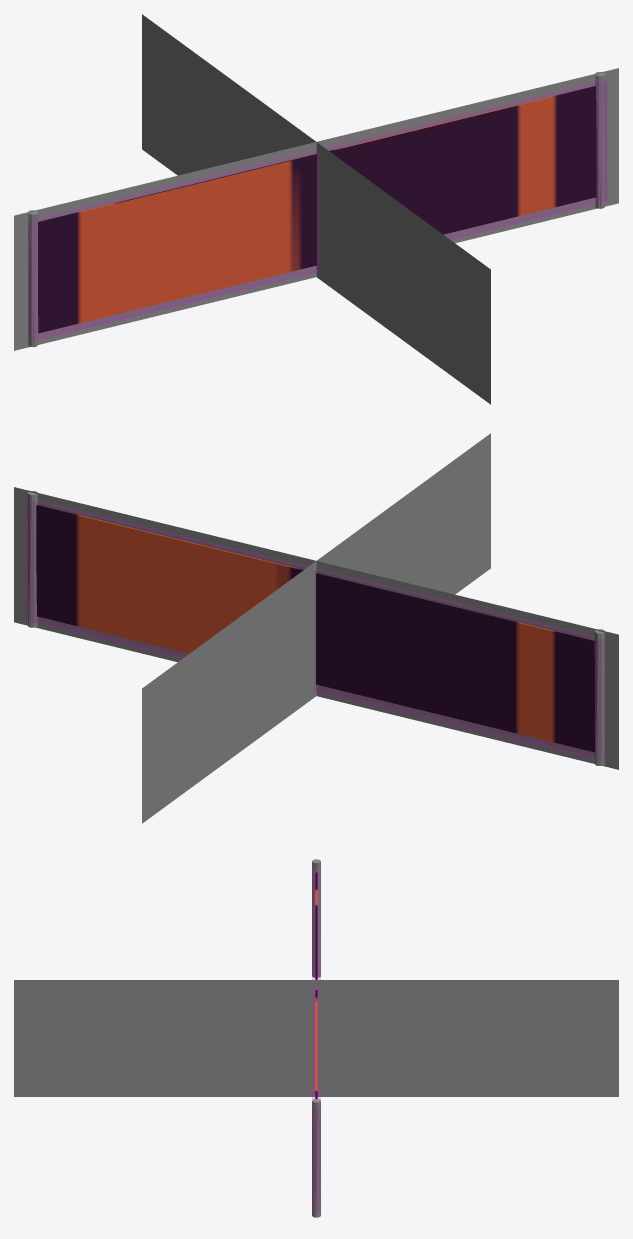
File: ribbon_caution_5m.dae
3 renders of one model, top to bottom at view 1: azimuth 30°, elevation 25°; view 2: azimuth 150°, elevation 25°; view 3: azimuth 270°, elevation 25°, orthographic. The views are drawn at different scales.
Visible parts, largest first — view 1: ribbon_caution_5m_a800, ribbon_caution_5m_a50, Colmesh_panel-1, ribbon_caution_5m_a200; view 2: ribbon_caution_5m_a800, ribbon_caution_5m_a50, Colmesh_panel-1, ribbon_caution_5m_a200; view 3: ribbon_caution_5m_a50, Colmesh_panel-1, ribbon_caution_5m_a800, ribbon_caution_5m_a200.
Boxes of the visible parts, bbox=[...] form: ribbon_caution_5m_a800: bbox=[28, 72, 604, 346]; ribbon_caution_5m_a50: bbox=[14, 14, 618, 404]; Colmesh_panel-1: bbox=[29, 80, 606, 341]; ribbon_caution_5m_a200: bbox=[28, 72, 605, 346]; ribbon_caution_5m_a800: bbox=[28, 491, 604, 765]; ribbon_caution_5m_a50: bbox=[14, 433, 618, 823]; Colmesh_panel-1: bbox=[26, 499, 603, 760]; ribbon_caution_5m_a200: bbox=[27, 491, 604, 765]; ribbon_caution_5m_a50: bbox=[14, 980, 618, 1096]; Colmesh_panel-1: bbox=[312, 868, 320, 1211]; ribbon_caution_5m_a800: bbox=[312, 859, 320, 1217]; ribbon_caution_5m_a200: bbox=[312, 861, 320, 1217].
Bounding box in the file's own units: 5.25 × 5.25 × 1.12.
3 materials, 1 textured.
